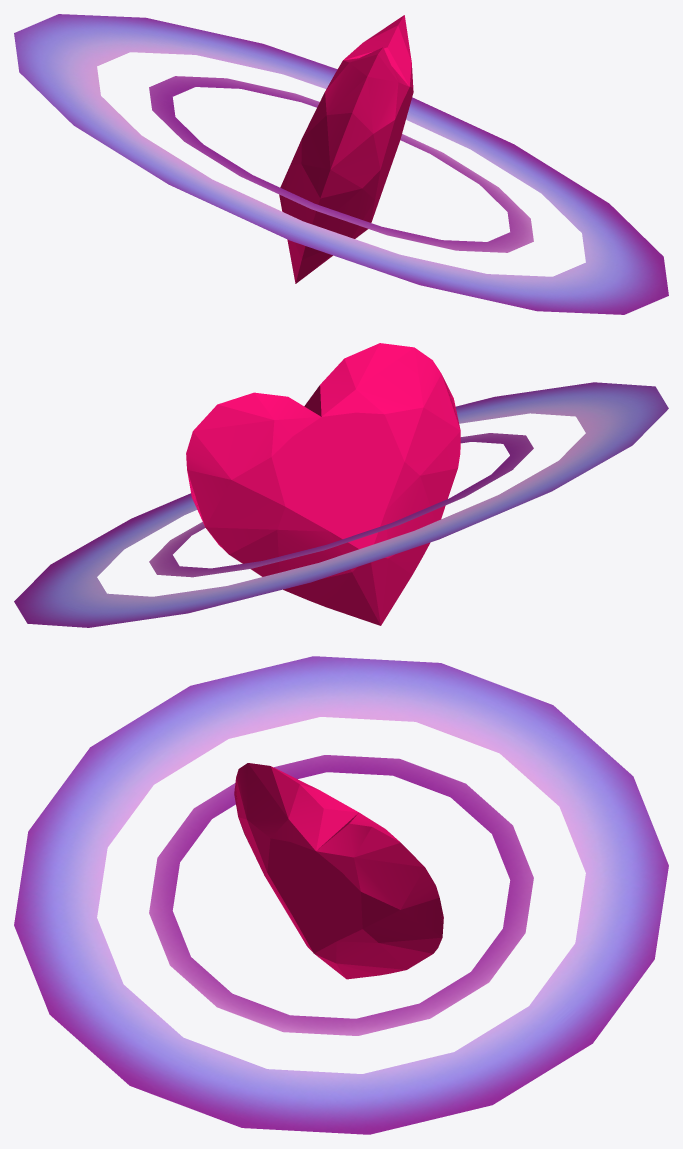
Rendered from track6Building3.glb.
3 views of the same model, one above another, from view 1: azimuth 30°, elevation 25°; view 2: azimuth 150°, elevation 25°; view 3: azimuth 270°, elevation 25° (orthographic). The views are drawn at different scales.
Visible parts, largest first — view 1: planet3; view 2: planet3; view 3: planet3.
Boxes of the visible parts, x1=… form: planet3: x1=14, y1=14, x2=668, y2=314; planet3: x1=14, y1=343, x2=668, y2=627; planet3: x1=14, y1=656, x2=668, y2=1134.
Bounding box in the file's own units: 9.03 × 3.93 × 9.73.
2 materials, 1 textured.
